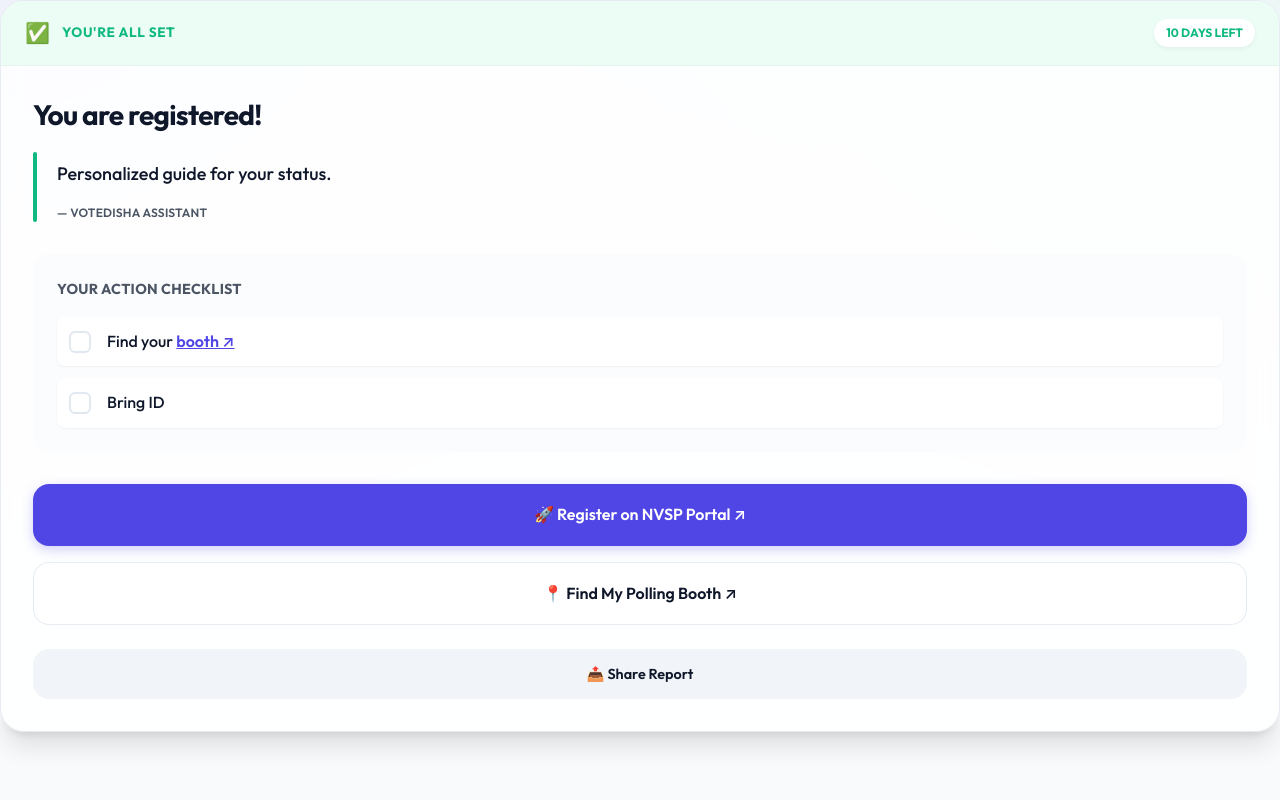
Scenario: StateCard Component › handles sharing via clipboard fallback
Click the button "📤 Share Report". click: (640, 674)
box: [33,649,1247,699]
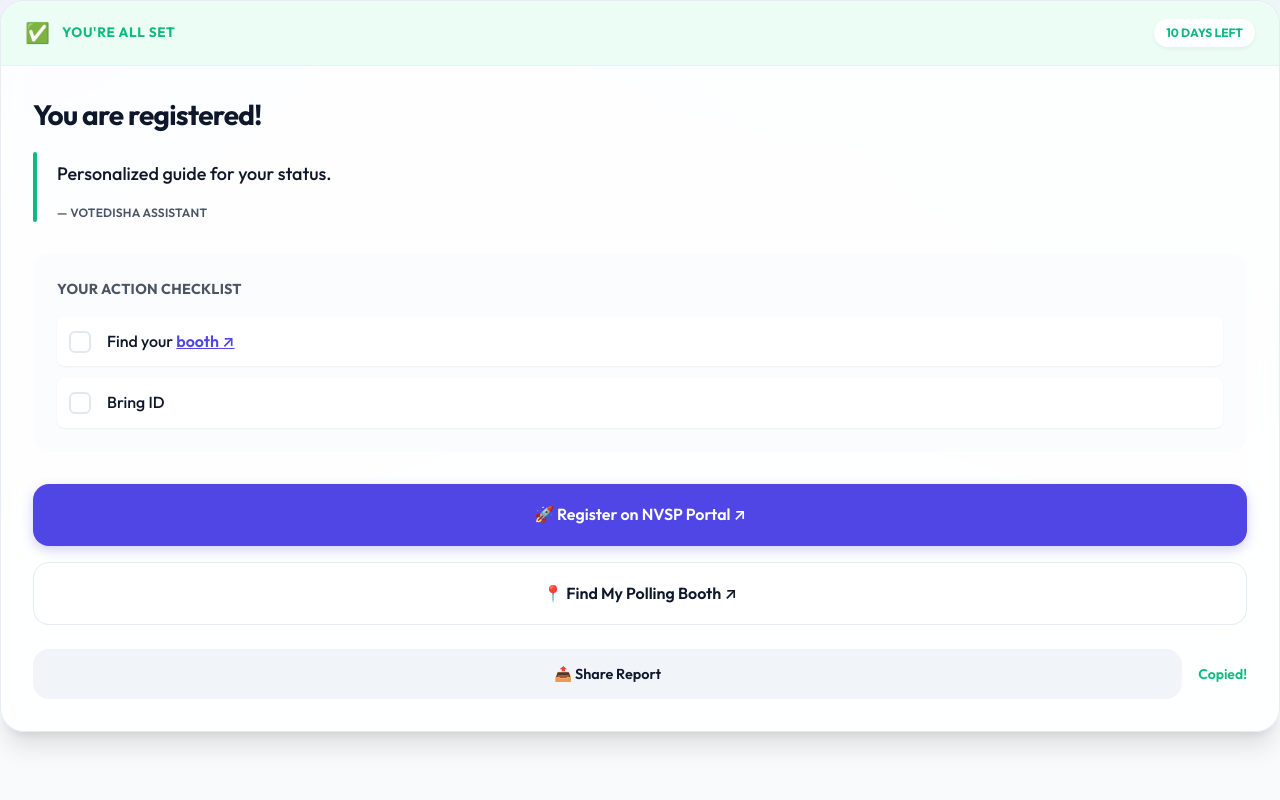
Expected: the text "Copied!" is shown, [1198,663,1247,685]
